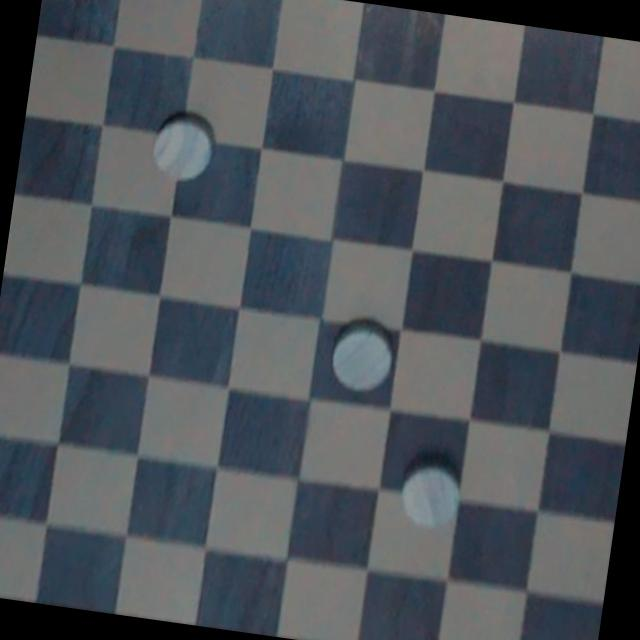BOARD: (0, 0, 640, 640)
white: (322, 308, 409, 410), (144, 96, 228, 192), (394, 446, 476, 534)
